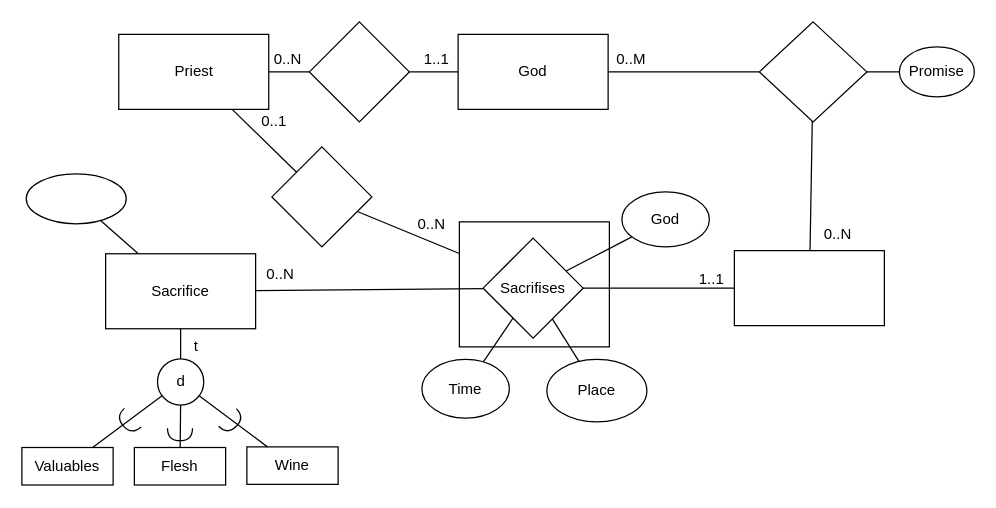
Some shapes in this 996 by 508 pixel diagram are drawn without their labels. Each missing label, with the box of its shape:
Human: (733, 249, 884, 326)
Presides: (271, 146, 372, 247)
Promises: (758, 21, 867, 122)
Serves: (308, 21, 409, 122)
Value: (25, 172, 126, 224)
